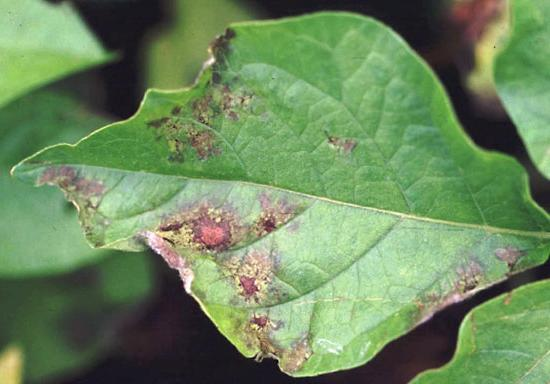Tomato Early blight leaf: (8, 8, 548, 384)
